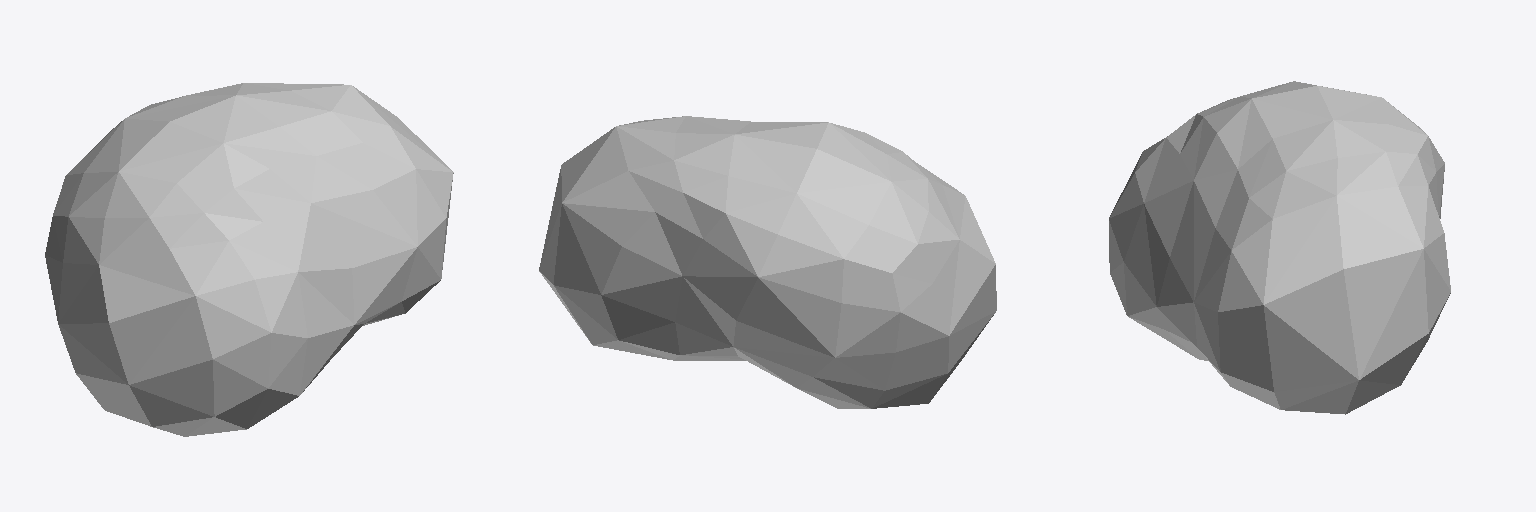
The model's file is rock2.obj.
The picture shows the model from 3 angles: view 1: azimuth 30°, elevation 25°; view 2: azimuth 150°, elevation 25°; view 3: azimuth 270°, elevation 25°; orthographic projection.
Parts seen in each view (by area): view 1: [Imported]_obj3_obj3; view 2: [Imported]_obj3_obj3; view 3: [Imported]_obj3_obj3.
Boxes of the visible parts, <box> form: [Imported]_obj3_obj3: <box>45,83,453,436</box>; [Imported]_obj3_obj3: <box>539,116,996,408</box>; [Imported]_obj3_obj3: <box>1109,81,1450,414</box>.
Bounding box in the file's own units: 7.65 × 5.38 × 5.99.